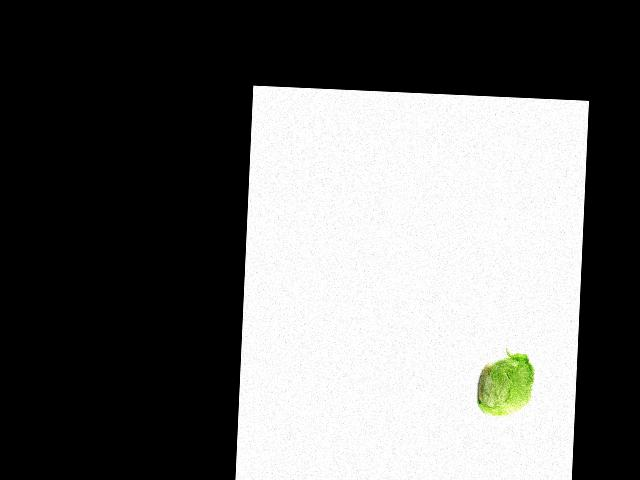lettuce: (474, 353, 537, 420)
